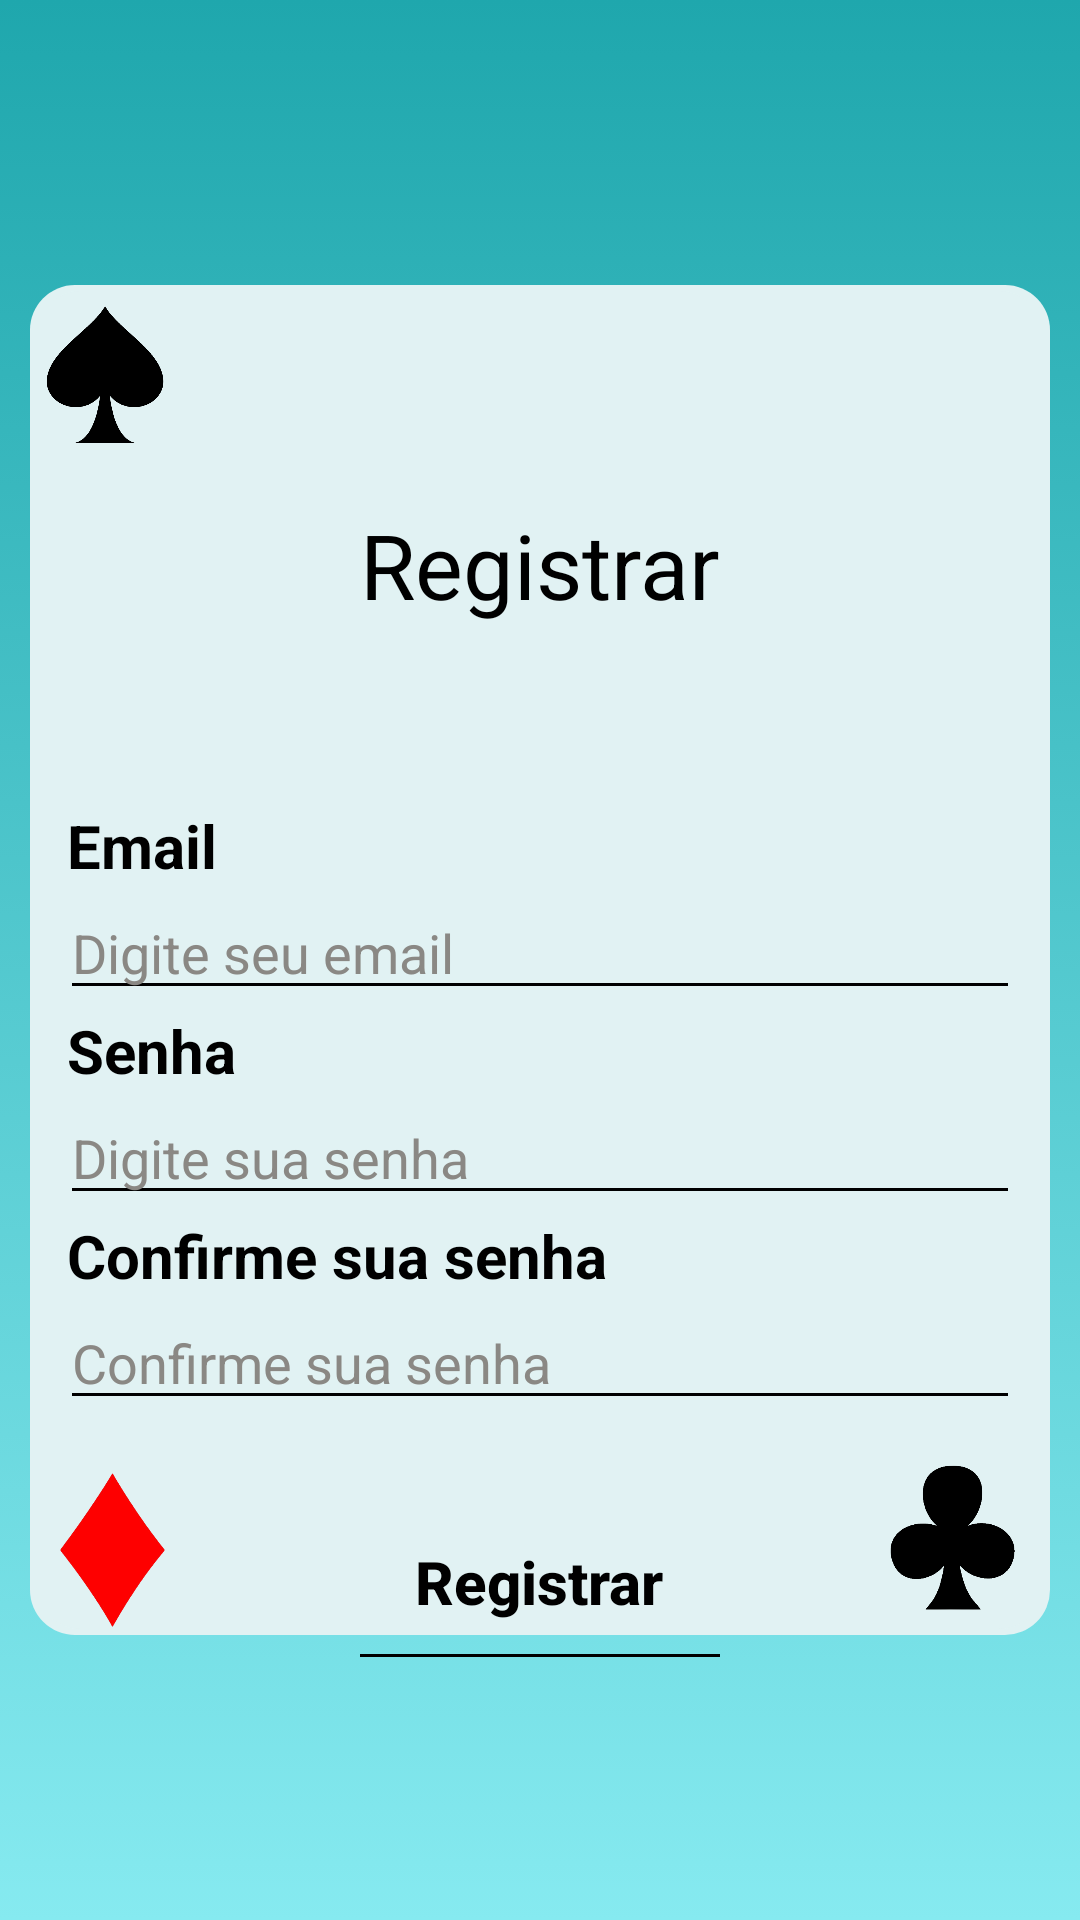

Point at icon controls on the screen. Image size 1080 x 1920, points as (x=x, y=y).
clubs: (x=952, y=1537)
diamonds: (x=112, y=1552)
spades: (x=105, y=375)
